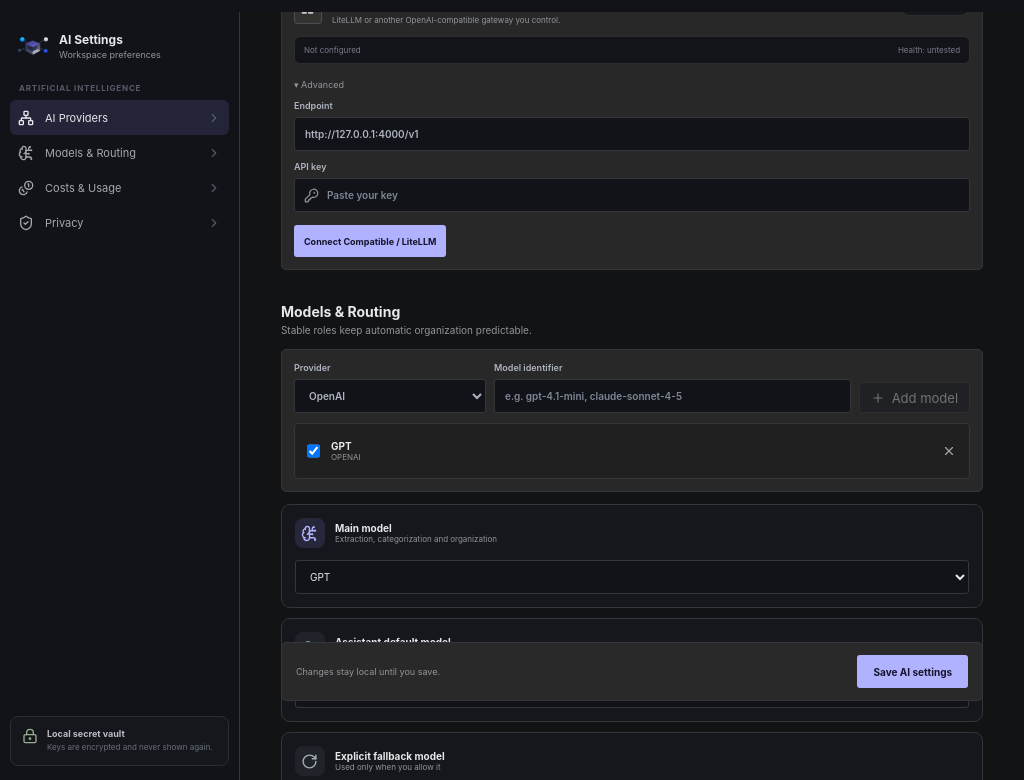
Test: dedicated AI settings › adds an enabled model from any configured provider to routing
The width and height of the screenshot is (1024, 780).
(page scrolled)
Select "Compatible / LiteLLM" in the dropdown named "New model provider" at (390, 396), box [294, 379, 486, 413]
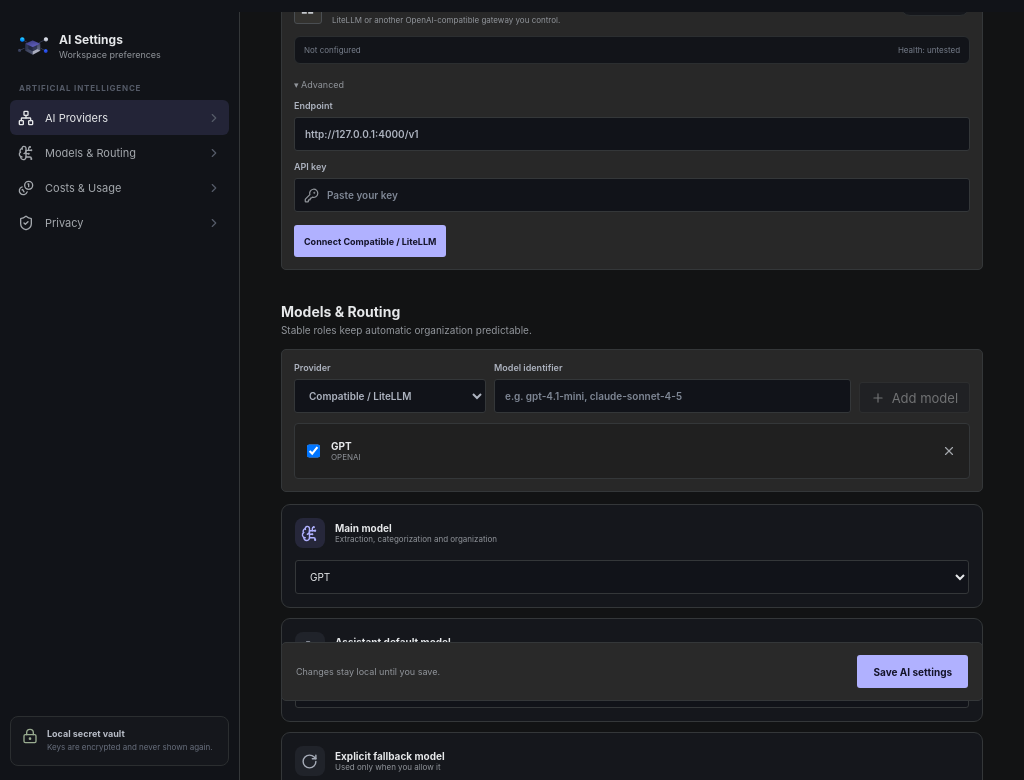
Type "openrouter/auto" into the field named "New model identifier".
click(672, 396); type("openrouter/auto")  # box [494, 379, 851, 413]
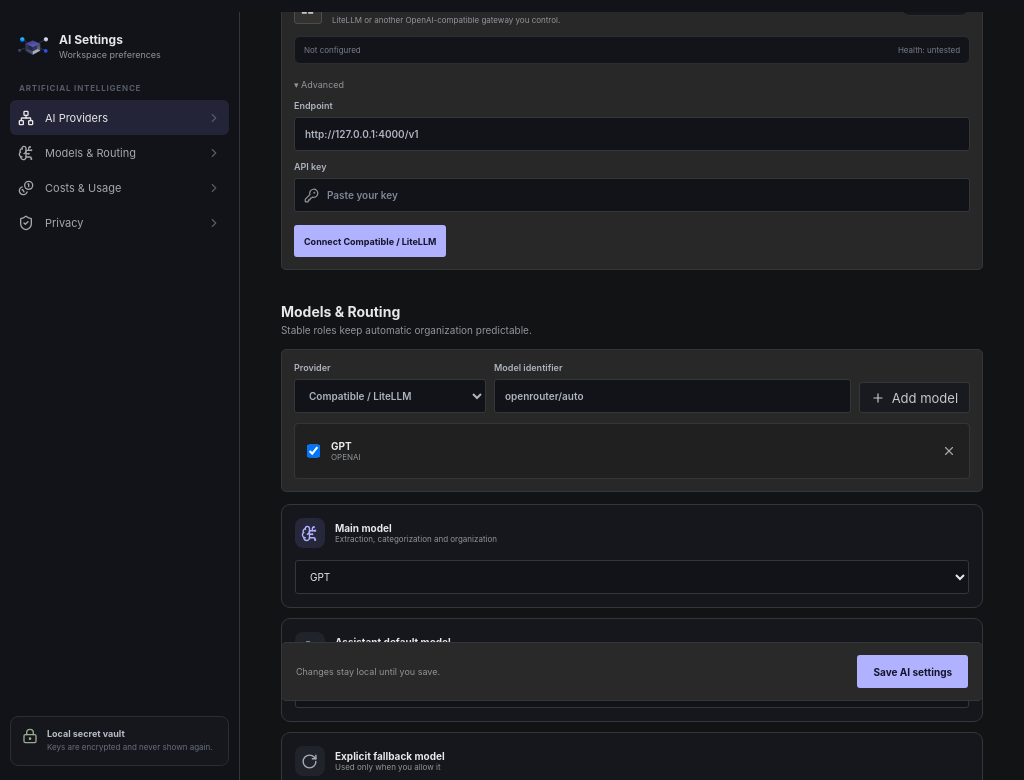
Click the button "Add model".
click(914, 398)  # box [859, 382, 970, 413]
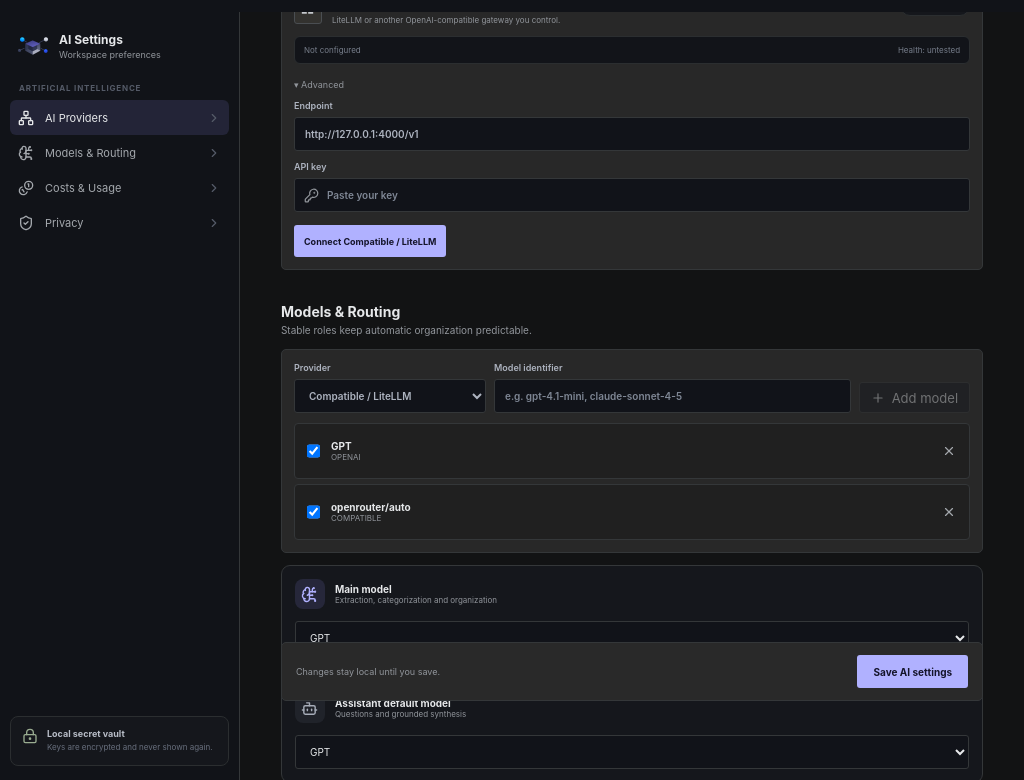
Now the checkbox named "Enable openrouter/auto" is checked, box [307, 495, 320, 529]
